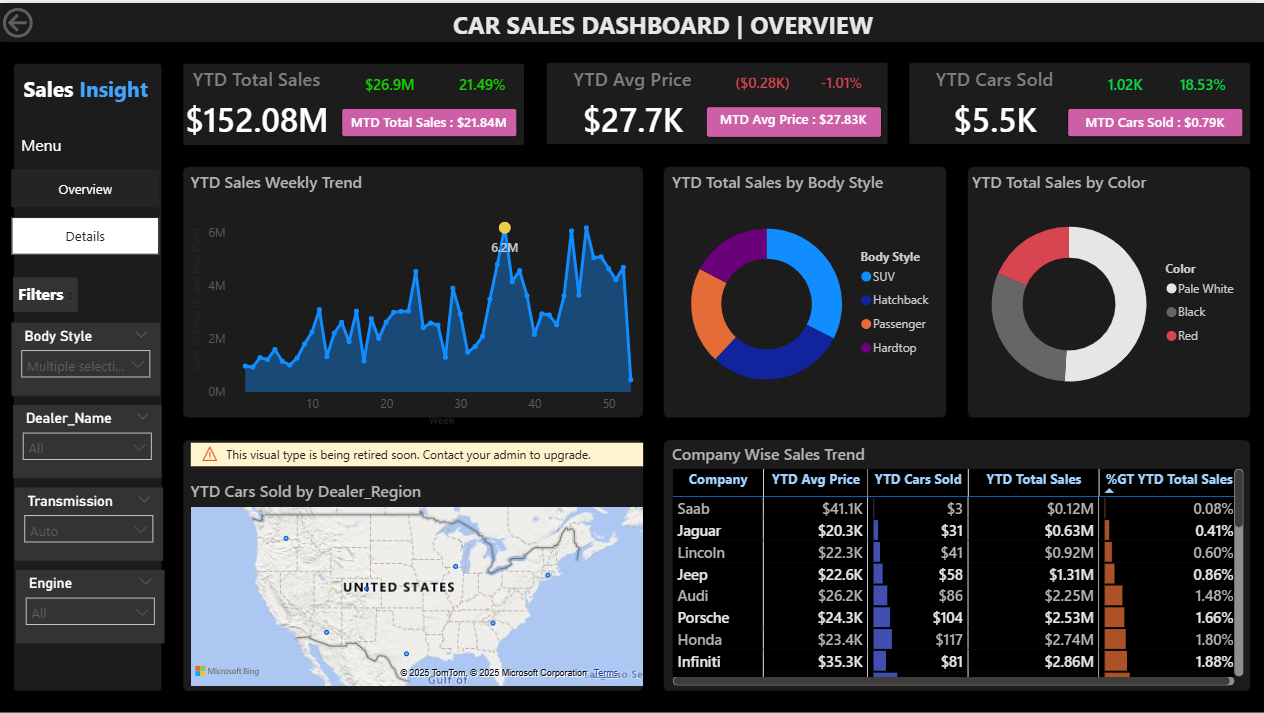

Layout of this report page (visuals, bound fields, positions):
{"tool":"powerbi","page":{"name":"Overview","canvas":[1280,720],"ordinal":0},"visuals":[{"type":"card","title":"YTD Total Sales","fields":{"Values":["car_data.YTD Total Sales"]},"box":[177.8,63.3,167.8,83.3],"z":0},{"type":"card","fields":{"Values":["car_data.Sales Difference"]},"box":[348.9,70,93.3,25.6],"z":1000},{"type":"card","fields":{"Values":["car_data.YoY Sales Growth"]},"box":[442.1,69.7,92.4,25.7],"z":2000},{"type":"card","fields":{"Values":["car_data.MTD KPI"]},"box":[346.3,105.6,177,29.5],"z":3000},{"type":"card","title":"YTD Avg Price","fields":{"Values":["car_data.YTD Avg Price"]},"box":[556.7,63.3,166.7,83.3],"z":4000},{"type":"card","fields":{"Values":["car_data.Avg Price Diff"]},"box":[723.3,68.3,95,25],"z":5000},{"type":"card","fields":{"Values":["car_data.YoY Avg Price Growth"]},"box":[803.3,68.3,93.3,25],"z":6000},{"type":"card","fields":{"Values":["car_data.MTD Avg Price KPI"]},"box":[714.3,104,177,31.1],"z":7000},{"type":"card","title":"YTD Cars Sold","fields":{"Values":["car_data.YTD Cars Sold"]},"box":[922.2,63.6,168.1,83.3],"z":8000},{"type":"card","fields":{"Values":["car_data.Cars Sold Diff"]},"box":[1090.2,69.7,93.9,25.7],"z":9000},{"type":"card","fields":{"Values":["car_data.YoY Car Sold Growth"]},"box":[1168.3,70,93.3,25],"z":10000},{"type":"card","fields":{"Values":["car_data.MTD Cars Sold KPI"]},"box":[1079.2,105.6,177,29.5],"z":11000},{"type":"areaChart","title":"YTD Sales Weekly Trend","fields":{"Category":["Calender Table.Week"],"Y":["Sum(car_data.Price ($))","car_data.Max Point"]},"box":[190,170,471.7,261.7],"z":12000},{"type":"donutChart","fields":{"Category":["car_data.Body Style"],"Y":["car_data.YTD Total Sales"]},"box":[675,170,278.3,246.7],"z":13000},{"type":"donutChart","fields":{"Y":["car_data.YTD Total Sales"],"Category":["car_data.Color"]},"box":[978.3,170,283.3,246.7],"z":14000},{"type":"map","fields":{"Category":["car_data.Dealer_Region"],"Y":["car_data.YTD Cars Sold"]},"box":[190,443.3,466.7,250],"z":15000},{"type":"tableEx","title":"Company Wise Sales Trend","fields":{"Values":["car_data.Company","car_data.YTD Avg Price","car_data.YTD Cars Sold","car_data.YTD Total Sales1","car_data.YTD Total Sales"]},"box":[675,443.3,586.7,250],"z":16000},{"type":"actionButton","box":[0,0,100,40],"z":17000},{"type":"textbox","box":[455,0,441.7,41.7],"z":18000},{"type":"slicer","fields":{"Values":["car_data.Body Style"]},"box":[13.6,322.5,149.9,74.2],"z":19000},{"type":"slicer","fields":{"Values":["car_data.Dealer_Name"]},"box":[15.1,405.8,149.9,74.2],"z":20000},{"type":"slicer","fields":{"Values":["car_data.Engine"]},"box":[18.2,572.4,149.9,74.2],"z":21000},{"type":"slicer","fields":{"Values":["car_data.Transmission"]},"box":[16.7,489.1,149.9,74.2],"z":22000},{"type":"textbox","box":[15.1,277.1,65.1,34.8],"z":23000},{"type":"textbox","box":[13.6,66.6,149.9,42.4],"z":24000},{"type":"textbox","box":[18.2,127.2,75.7,40.9],"z":25000},{"type":"pageNavigator","box":[13.6,168.1,149.9,87.8],"z":26000}]}

Visuals, with their boxes on the page's 1280x720 design canvas (x1, y1, x2, y2). These are canvas units, not pixel positions in the 1264x713 screenshot, which may show the page scaled, cropped or inside an application window:
"YTD Total Sales" card: region(178, 63, 346, 147)
card - car_data.Sales Difference: region(349, 70, 442, 96)
card - car_data.YoY Sales Growth: region(442, 70, 534, 95)
card - car_data.MTD KPI: region(346, 106, 523, 135)
"YTD Avg Price" card: region(557, 63, 723, 147)
card - car_data.Avg Price Diff: region(723, 68, 818, 93)
card - car_data.YoY Avg Price Growth: region(803, 68, 897, 93)
card - car_data.MTD Avg Price KPI: region(714, 104, 891, 135)
"YTD Cars Sold" card: region(922, 64, 1090, 147)
card - car_data.Cars Sold Diff: region(1090, 70, 1184, 95)
card - car_data.YoY Car Sold Growth: region(1168, 70, 1262, 95)
card - car_data.MTD Cars Sold KPI: region(1079, 106, 1256, 135)
"YTD Sales Weekly Trend" areaChart: region(190, 170, 662, 432)
donutChart - car_data.Body Style x car_data.YTD Total Sales: region(675, 170, 953, 417)
donutChart - car_data.YTD Total Sales x car_data.Color: region(978, 170, 1262, 417)
map - car_data.Dealer_Region x car_data.YTD Cars Sold: region(190, 443, 657, 693)
"Company Wise Sales Trend" tableEx: region(675, 443, 1262, 693)
actionButton: region(0, 0, 100, 40)
textbox: region(455, 0, 897, 42)
slicer - car_data.Body Style: region(14, 322, 164, 397)
slicer - car_data.Dealer_Name: region(15, 406, 165, 480)
slicer - car_data.Engine: region(18, 572, 168, 647)
slicer - car_data.Transmission: region(17, 489, 167, 563)
textbox: region(15, 277, 80, 312)
textbox: region(14, 67, 164, 109)
textbox: region(18, 127, 94, 168)
pageNavigator: region(14, 168, 164, 256)
